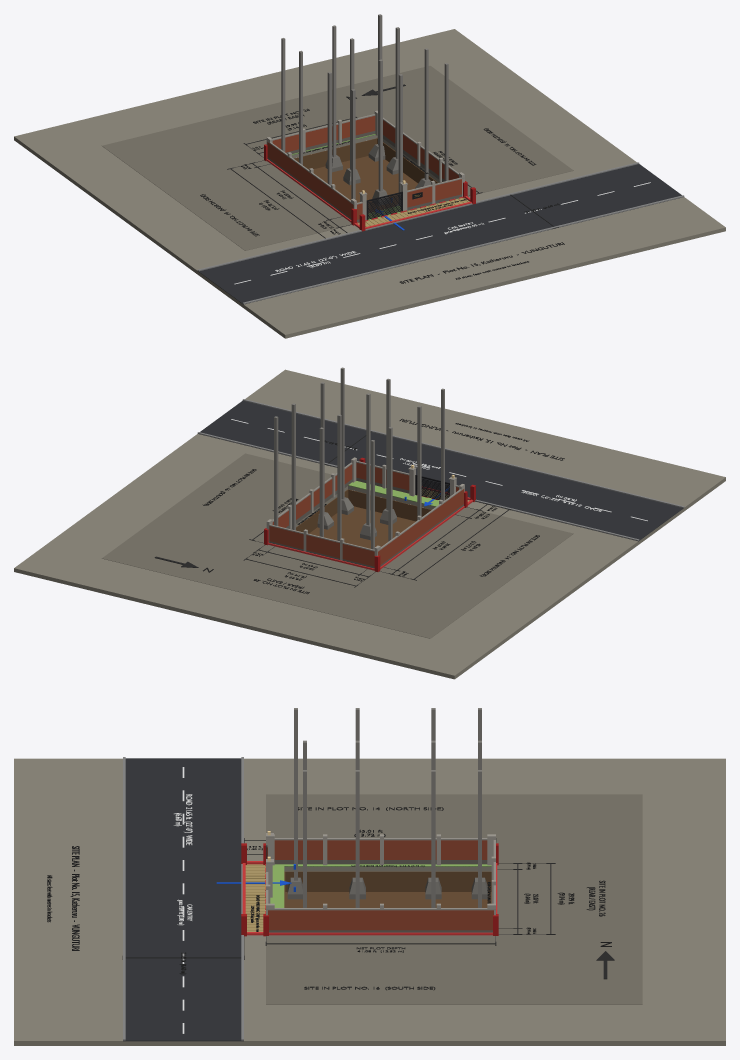
File: 03_site_wall_pillars.glb
The picture shows the model from 3 angles, top to bottom: view 1: azimuth 30°, elevation 25°; view 2: azimuth 150°, elevation 25°; view 3: azimuth 270°, elevation 25°; orthographic projection. The views are drawn at different scales.
Visible parts, largest first — view 1: Pit_01_Terrain, 01_Neighbour_Plot, 05_Road, PIL_Concrete, Pit_Soil, 05_Kerb, Wall_North, Wall_Rear, Wall_Piers_and_Pillars, Wall_Front_with_Gate, Wall_South, BAS_Footing (+5 smaller); view 2: Pit_01_Terrain, 01_Neighbour_Plot, 05_Road, PIL_Concrete, Pit_Soil, 05_Kerb, Wall_Rear, Wall_North, Wall_Piers_and_Pillars, 06_Dim_Line, Wall_South, Wall_Coping (+4 smaller); view 3: Pit_01_Terrain, 01_Neighbour_Plot, 05_Road, Pit_Soil, Wall_South, Wall_North, PIL_Concrete, 05_Kerb, Wall_Coping, Wall_Piers_and_Pillars, 06_Dim_Line, 03_Boundary_Line (+5 smaller).
Boxes of the visible parts, bbox=[...] form: Pit_01_Terrain: bbox=[14, 29, 725, 338]; 01_Neighbour_Plot: bbox=[102, 65, 573, 250]; 05_Road: bbox=[198, 164, 681, 304]; PIL_Concrete: bbox=[281, 14, 448, 204]; Pit_Soil: bbox=[294, 138, 438, 212]; 05_Kerb: bbox=[197, 162, 684, 304]; Wall_North: bbox=[267, 142, 353, 219]; Wall_Rear: bbox=[272, 116, 375, 153]; Wall_Piers_and_Pillars: bbox=[266, 110, 464, 220]; Wall_Front_with_Gate: bbox=[357, 179, 461, 222]; Wall_South: bbox=[383, 120, 458, 181]; BAS_Footing: bbox=[325, 144, 430, 205]; Pit_01_Terrain: bbox=[14, 369, 725, 679]; 01_Neighbour_Plot: bbox=[102, 453, 573, 638]; 05_Road: bbox=[199, 400, 683, 541]; PIL_Concrete: bbox=[274, 367, 444, 549]; Pit_Soil: bbox=[296, 489, 431, 548]; 05_Kerb: bbox=[197, 399, 684, 540]; Wall_Rear: bbox=[269, 526, 374, 568]; Wall_North: bbox=[378, 489, 464, 566]; Wall_Piers_and_Pillars: bbox=[266, 457, 464, 560]; 06_Dim_Line: bbox=[154, 431, 512, 587]; Wall_South: bbox=[272, 464, 352, 528]; Wall_Coping: bbox=[266, 461, 461, 552]; Pit_01_Terrain: bbox=[14, 758, 725, 1045]; 01_Neighbour_Plot: bbox=[266, 794, 642, 1004]; 05_Road: bbox=[123, 758, 243, 1041]; Pit_Soil: bbox=[284, 871, 491, 907]; Wall_South: bbox=[268, 910, 493, 932]; Wall_North: bbox=[274, 840, 487, 864]; PIL_Concrete: bbox=[294, 708, 481, 907]; 05_Kerb: bbox=[123, 757, 243, 1040]; Wall_Coping: bbox=[266, 838, 495, 910]; Wall_Piers_and_Pillars: bbox=[266, 834, 495, 915]; 06_Dim_Line: bbox=[122, 838, 614, 979]; 03_Boundary_Line: bbox=[242, 861, 497, 935].
Bounding box in the file's own units: 36.4 × 11.37 × 38.8.
